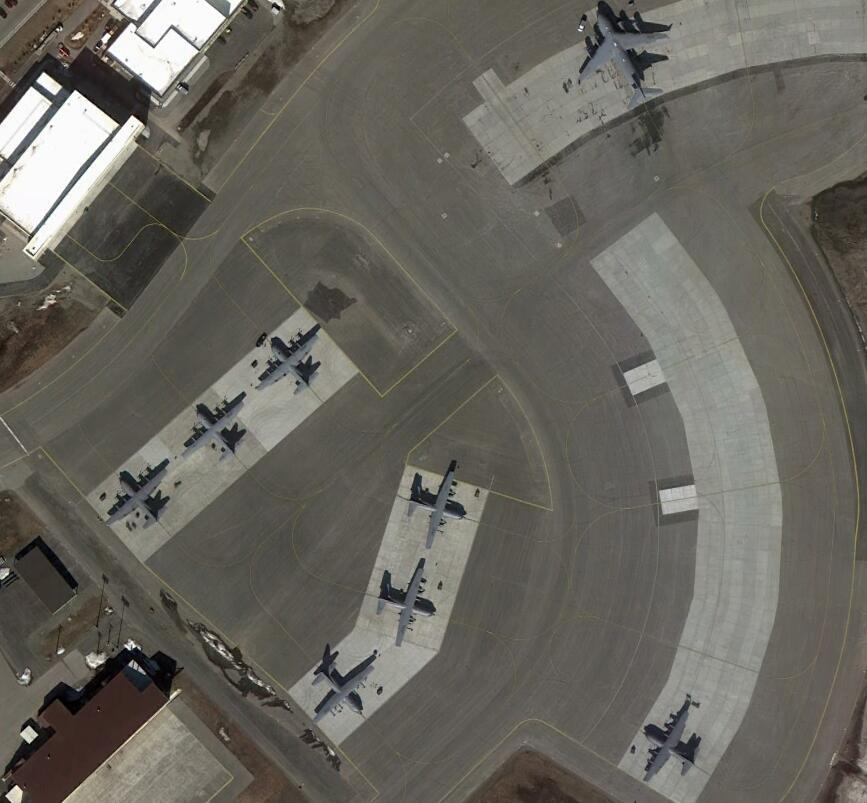A2: (404, 463, 467, 548), (376, 561, 437, 647), (641, 700, 700, 782), (102, 462, 172, 530), (310, 653, 375, 723), (252, 334, 325, 395), (178, 398, 245, 462)
A3: (575, 5, 670, 108)
